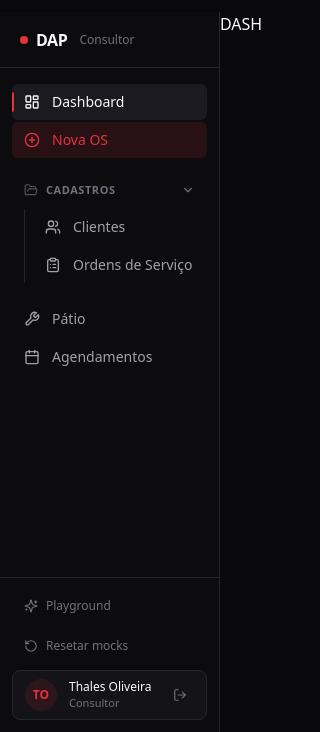
Test: Sidebar nav › clica em Clientes e muda a rota
The width and height of the screenshot is (320, 732).
Check: the text "DASH" is shown, box [220,13,262,35]
Click the link "Clientes". click: (85, 226)
box: [45,216,125,236]
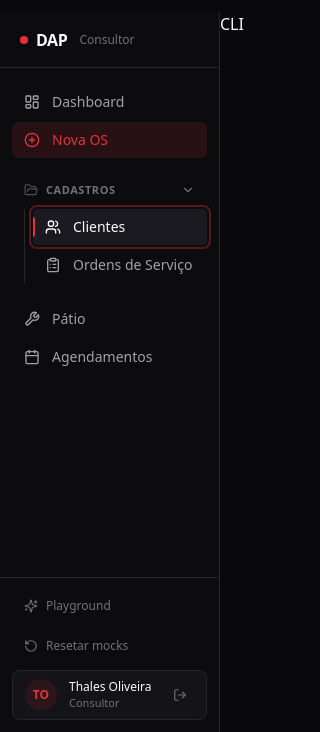
Check: the text "CLI" is shown, box [220,13,244,35]
